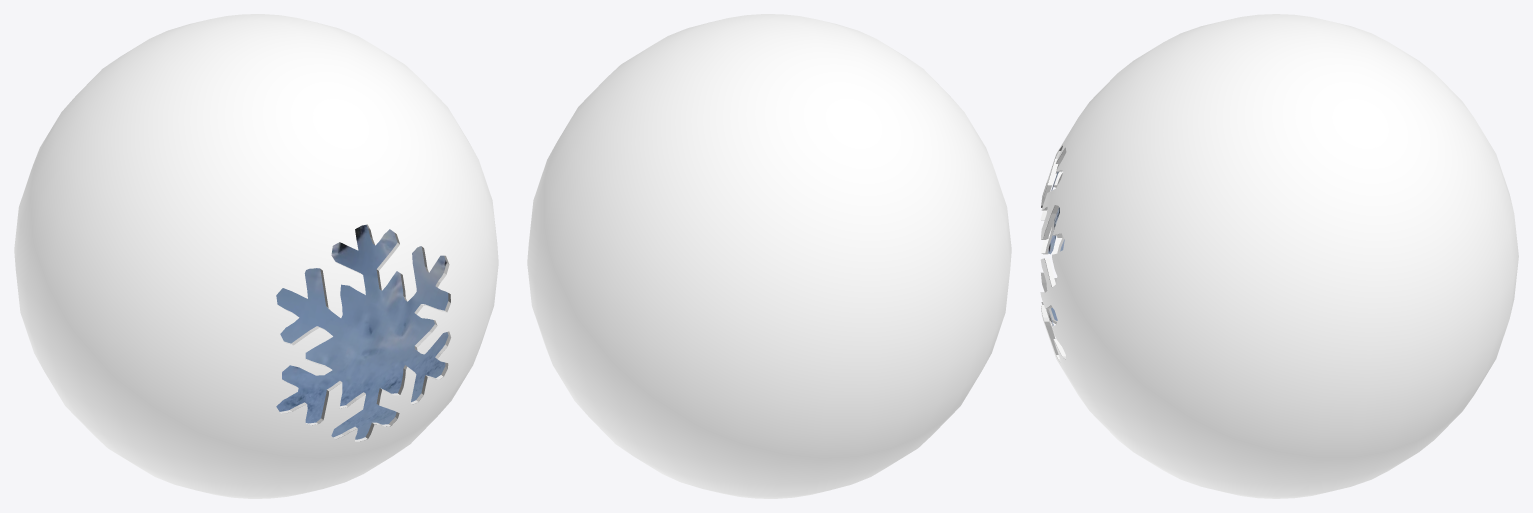
Rendered from winter.glb.
3 renders of one model, left to right at view 1: azimuth 30°, elevation 25°; view 2: azimuth 150°, elevation 25°; view 3: azimuth 270°, elevation 25°, orthographic.
Visible parts, largest first — view 1: occluder, photoSphere, rim; view 2: occluder; view 3: occluder, rim.
Part boxes in pixels (x1,y1,x2,y2): occluder: (14,14,498,498); photoSphere: (276,225,448,439); rim: (277,224,451,441); occluder: (527,14,1011,498); occluder: (1040,14,1518,498); rim: (1040,145,1066,361).
Size of the model in its own units: 1.02 by 1.02 by 1.01.
3 materials, 1 textured.
